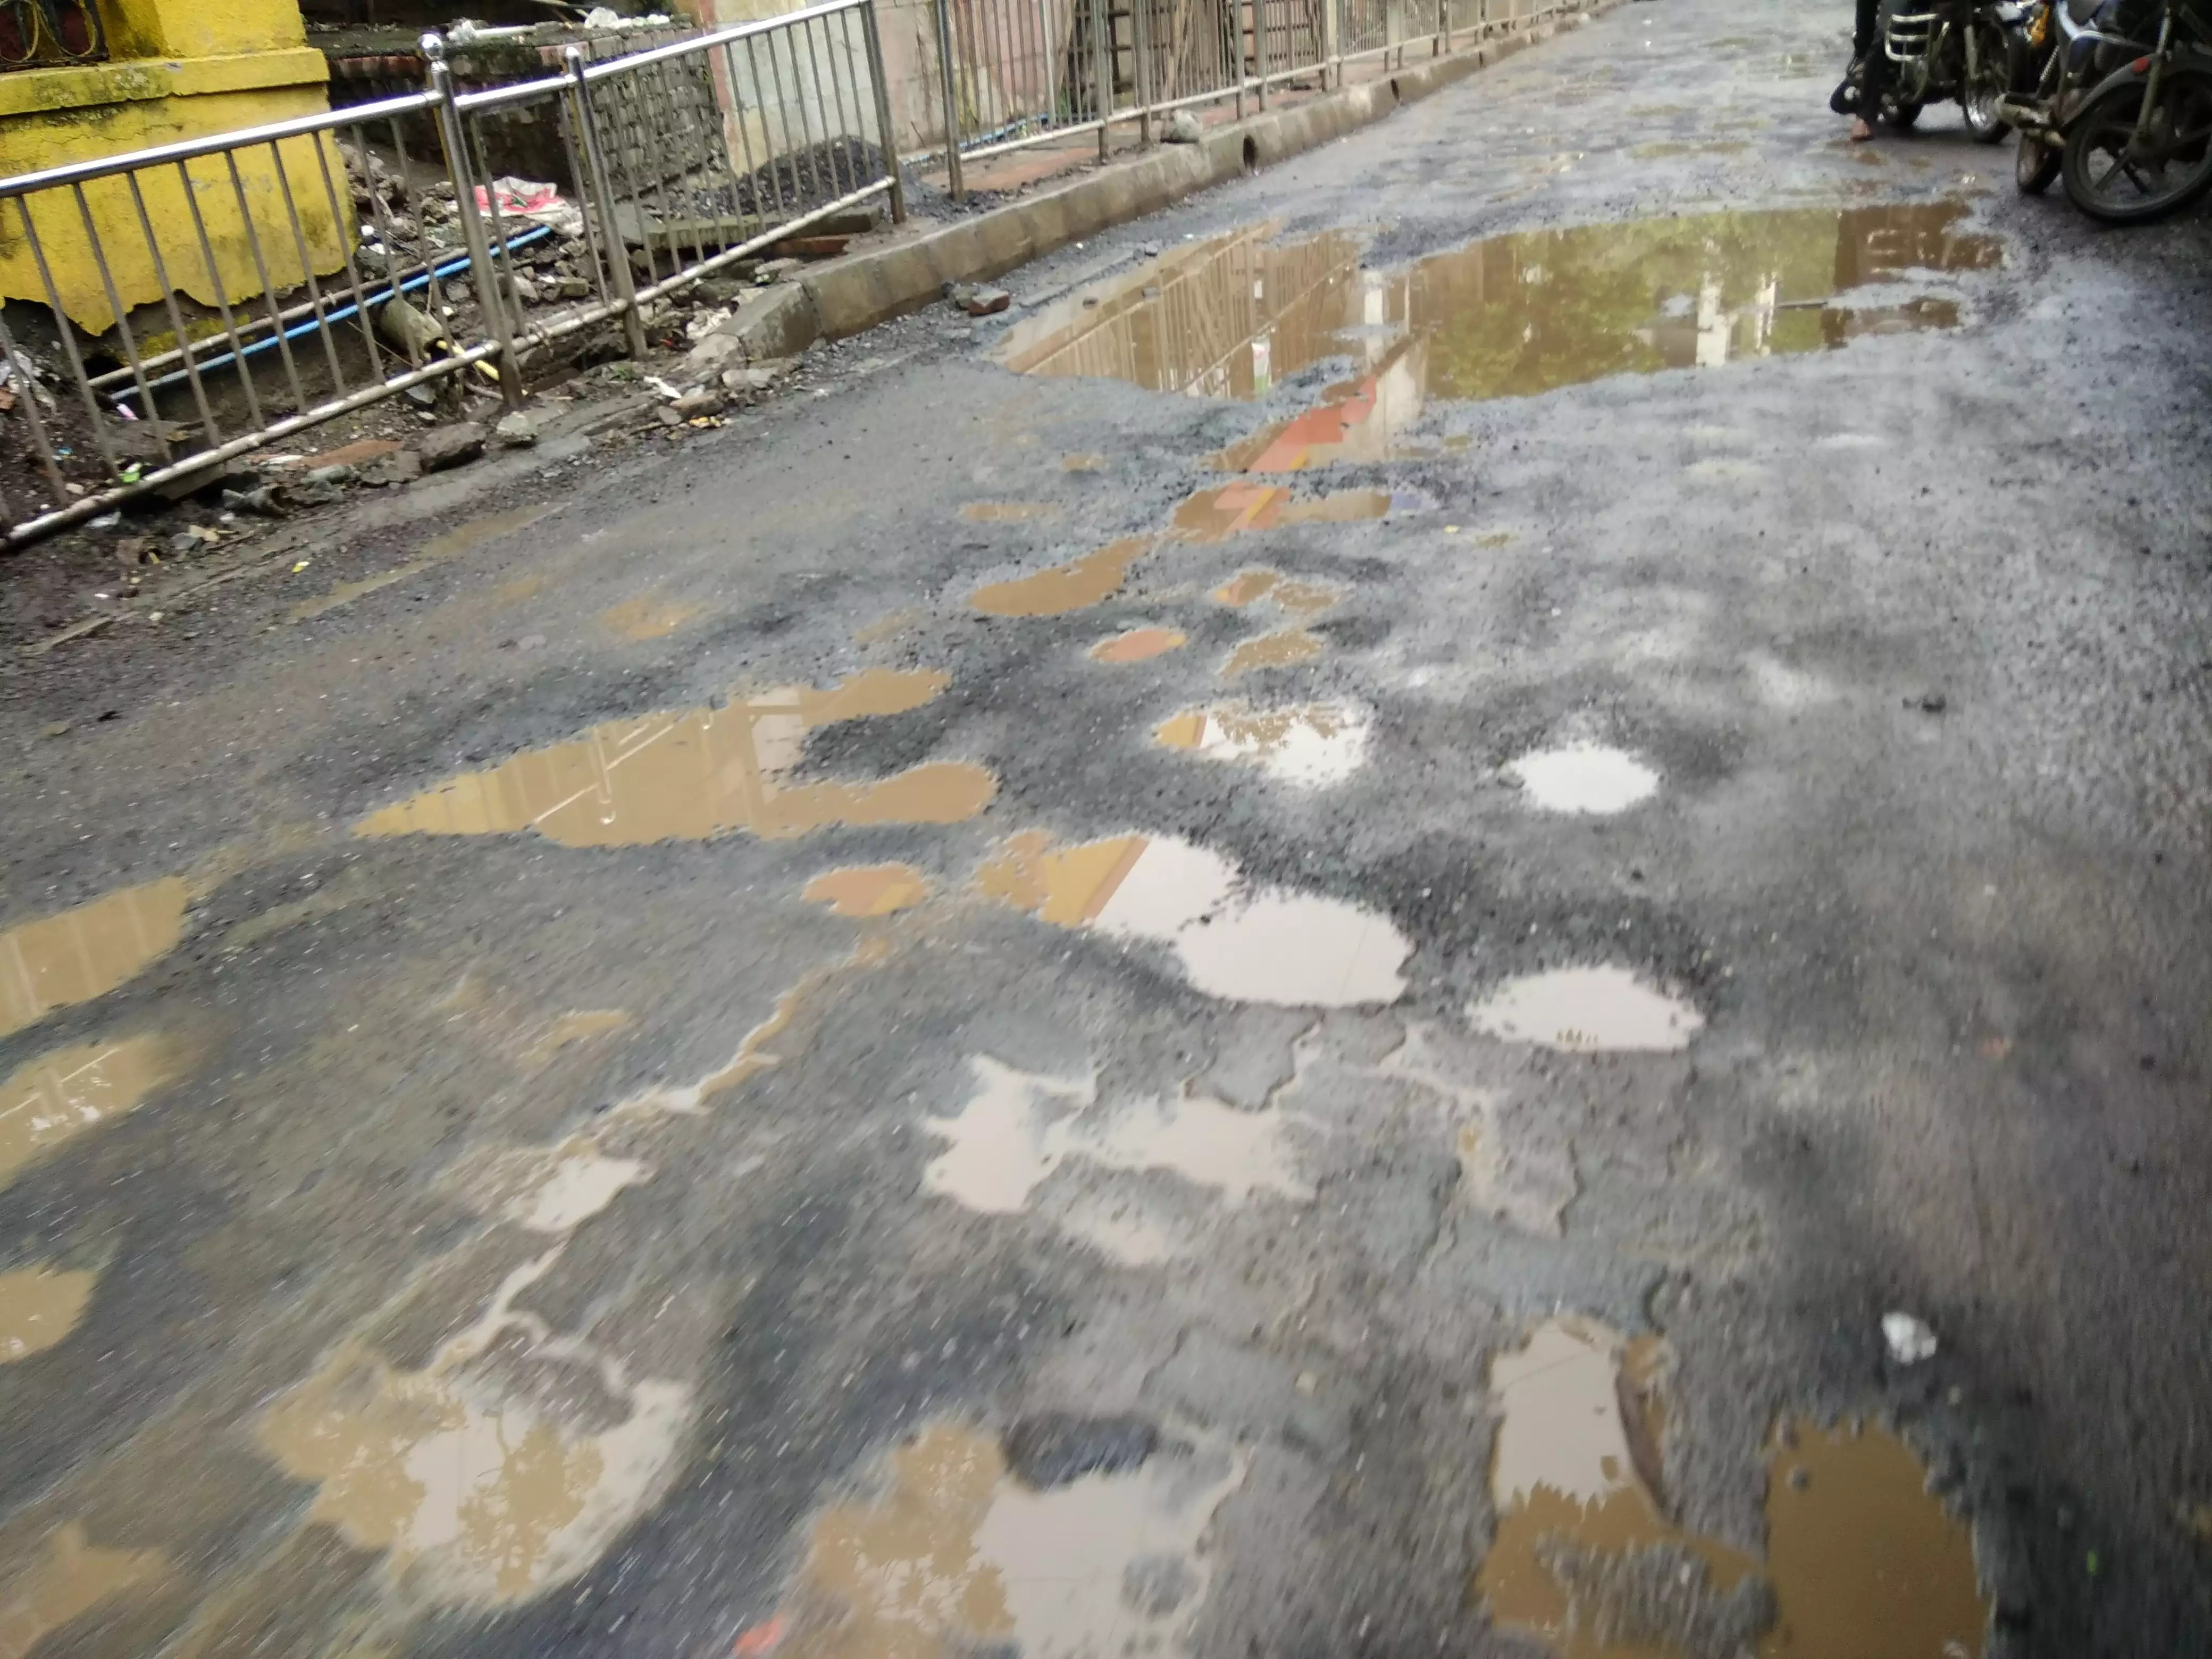pothole: (967, 139, 2026, 423), (1153, 713, 1824, 1103), (803, 476, 1571, 699), (406, 617, 963, 889), (1482, 626, 1796, 871)
